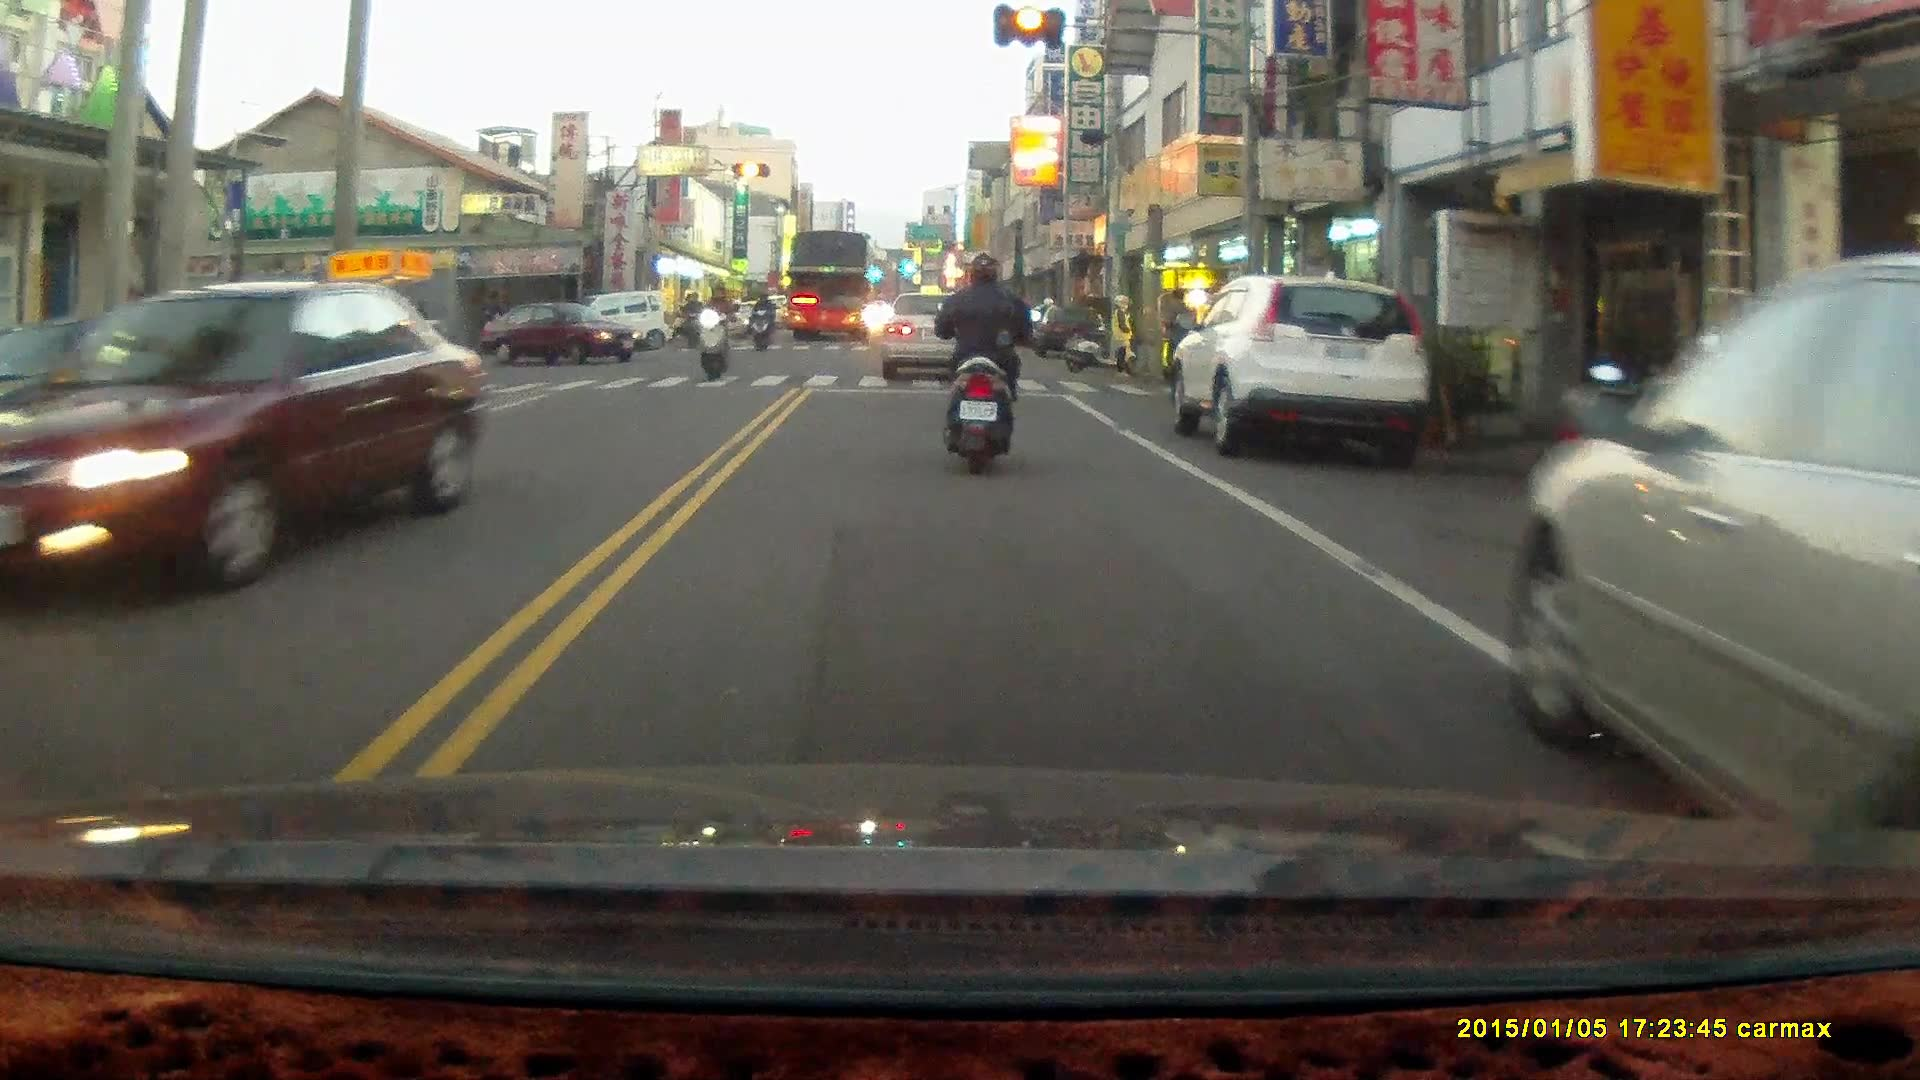pedestrian: (1161, 286, 1191, 386), (1107, 293, 1137, 379)
rider: (934, 249, 1037, 477), (692, 278, 734, 382), (675, 290, 704, 352), (749, 287, 771, 352)
vehicle: (1519, 233, 1919, 828), (1, 280, 491, 607), (1170, 275, 1434, 458), (782, 230, 876, 345), (492, 302, 637, 371), (879, 292, 987, 380)
